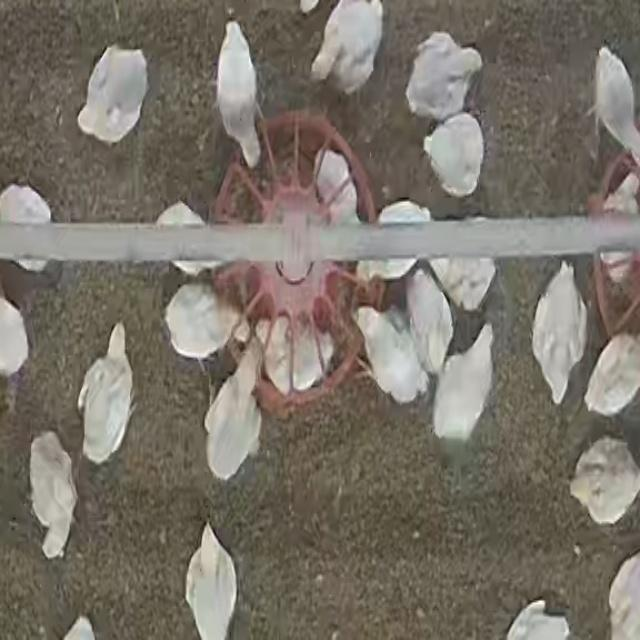chicken: (432, 321, 496, 471), (76, 319, 139, 465), (203, 333, 265, 480), (530, 264, 587, 402), (354, 304, 428, 407), (214, 18, 264, 170), (405, 31, 482, 126), (76, 45, 148, 144), (310, 1, 384, 97), (184, 522, 244, 640), (356, 198, 432, 285), (28, 432, 78, 558), (430, 222, 500, 312), (569, 437, 638, 525), (163, 283, 235, 365), (260, 318, 336, 392), (423, 112, 485, 198), (156, 200, 221, 280), (582, 332, 639, 418), (313, 150, 358, 224)
